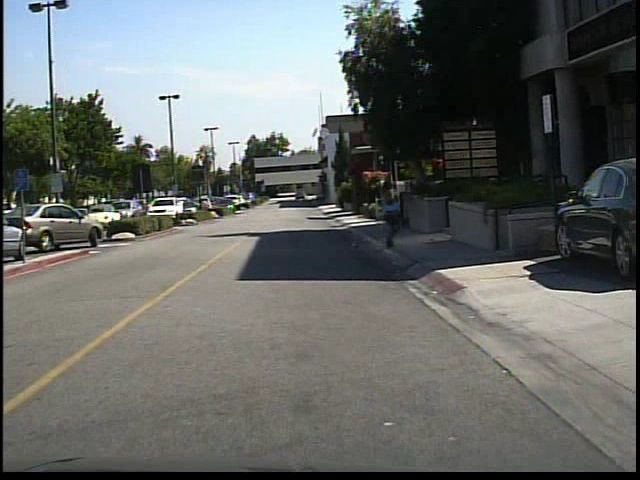person: (372, 173, 406, 251)
